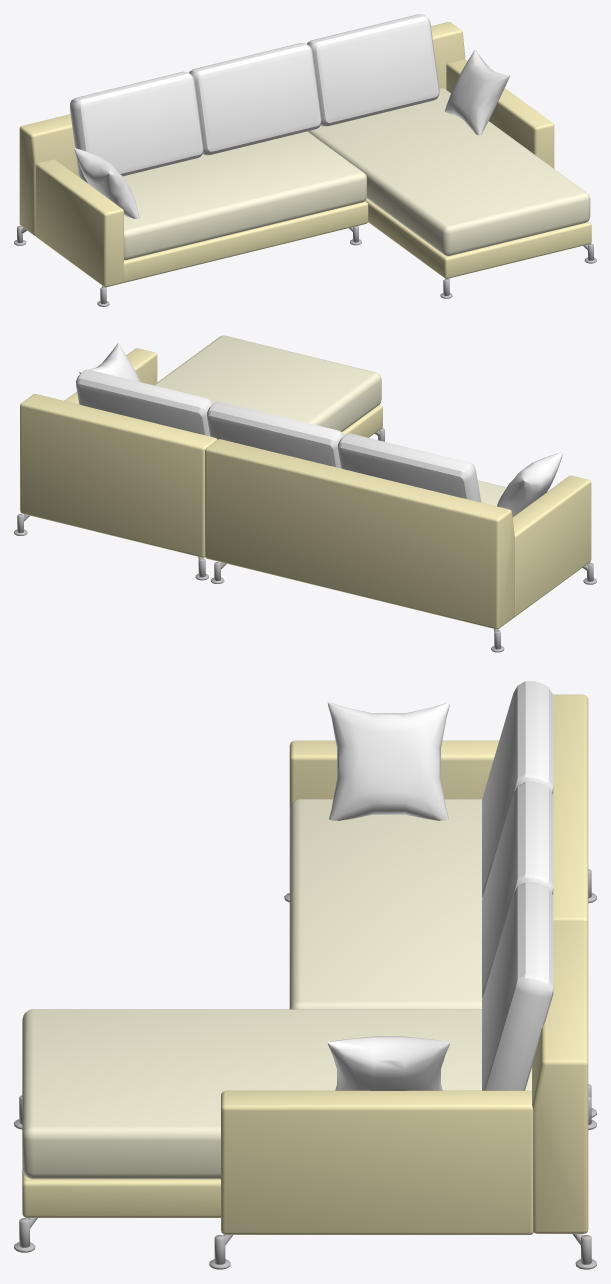
The model's file is Sofa.dae.
3 renders of one model, top to bottom at view 1: azimuth 30°, elevation 25°; view 2: azimuth 150°, elevation 25°; view 3: azimuth 270°, elevation 25°, orthographic. The views are drawn at different scales.
Parts seen in each view (by area): view 1: ChamferBo6, ChamferBo2, ChamferBo7, ChamferBo8, ChamferBo9, ChamferBox, ChamferBo1, ChamferBo5, ChamferBo0, ChamferBo4, Box02, Box01 (+1 smaller); view 2: ChamferBo0, ChamferBo3, ChamferBo6, ChamferBox, ChamferBo9, ChamferBo8, ChamferBo7, Box01, ChamferBo4, Box02, ChamferBo5, ChamferBo2; view 3: ChamferBo6, ChamferBo4, ChamferBo2, ChamferBo3, Box01, ChamferBo7, ChamferBo0, ChamferBo5, ChamferBo9, ChamferBo8, Box02, ChamferBox.
Boxes of the visible parts, x1,y1,x2,y2 form: ChamferBo6: (308,88,590,256); ChamferBo2: (123,131,366,260); ChamferBo7: (307,14,439,126); ChamferBo8: (189,43,321,155); ChamferBo9: (69,71,203,183); ChamferBox: (35,159,123,287); ChamferBo1: (123,201,368,282); ChamferBo5: (365,198,591,278); ChamferBo0: (19,114,79,235); ChamferBo4: (446,59,554,168); Box02: (445,50,509,135); Box01: (74,148,139,218); ChamferBo0: (205,439,514,629); ChamferBo3: (20,394,217,557); ChamferBo6: (154,335,381,431); ChamferBox: (512,475,591,617); ChamferBo9: (337,433,481,502); ChamferBo8: (206,401,343,468); ChamferBo7: (76,369,212,436); Box01: (497,452,562,516); ChamferBo4: (64,348,157,404); Box02: (79,343,140,381); ChamferBo5: (342,404,382,437); ChamferBo2: (477,480,506,506); ChamferBo6: (22,1009,531,1179); ChamferBo4: (221,1090,533,1234); ChamferBo2: (289,799,482,1009); ChamferBo3: (532,920,588,1233); Box01: (327,702,449,820); ChamferBo7: (482,882,553,1090); ChamferBo0: (553,694,588,924); ChamferBo5: (22,1170,220,1217); ChamferBo9: (482,681,553,897); ChamferBo8: (482,782,553,998); Box02: (327,1036,449,1090); ChamferBox: (289,740,498,809).
Size of what is drawn, in the model's own units: 2823 by 1854 by 892.
